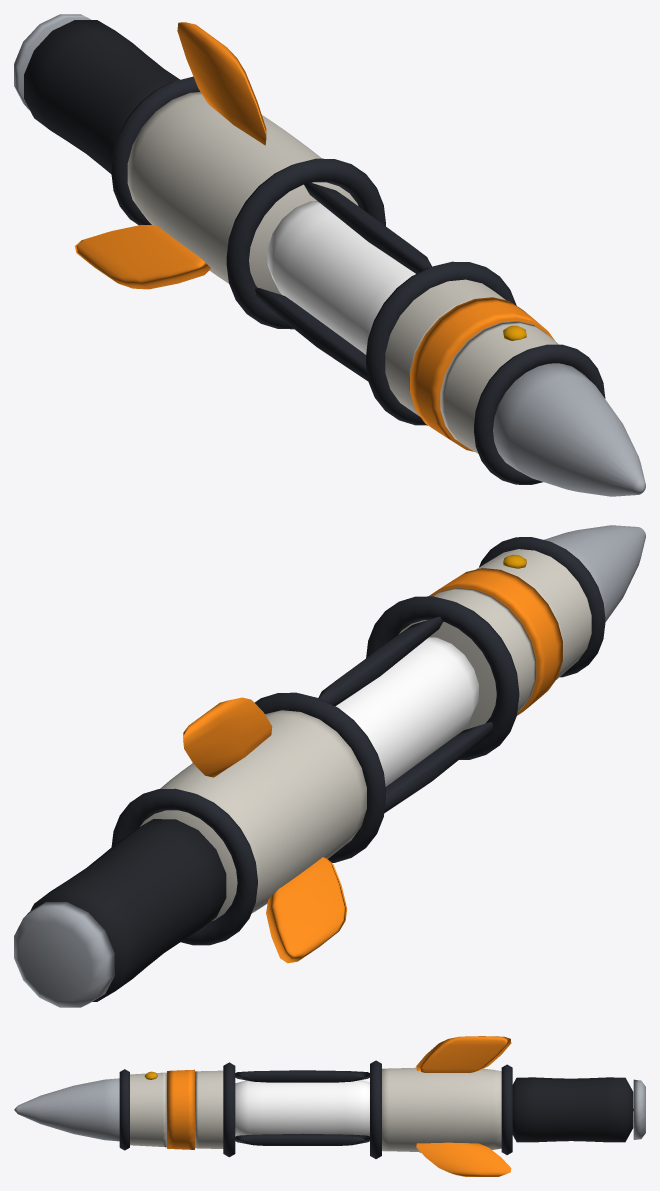
File: sub_tracer.glb
The picture shows the model from 3 angles, top to bottom: view 1: azimuth 30°, elevation 25°; view 2: azimuth 150°, elevation 25°; view 3: azimuth 270°, elevation 25°; orthographic projection. The views are drawn at different scales.
Parts seen in each view (by area): view 1: body, ink, glow; view 2: body, ink, glow; view 3: body, ink, glow.
Part boxes in pixels (<box>): body: <box>14,14,645,496</box>; ink: <box>74,22,554,451</box>; glow: <box>267,201,432,354</box>; body: <box>14,525,645,1007</box>; ink: <box>183,568,562,963</box>; glow: <box>335,637,478,786</box>; body: <box>14,1060,645,1158</box>; ink: <box>167,1036,511,1176</box>; glow: <box>235,1080,369,1136</box>.
Size of the model in its own units: 0.0453 by 0.0418 by 0.2025.
